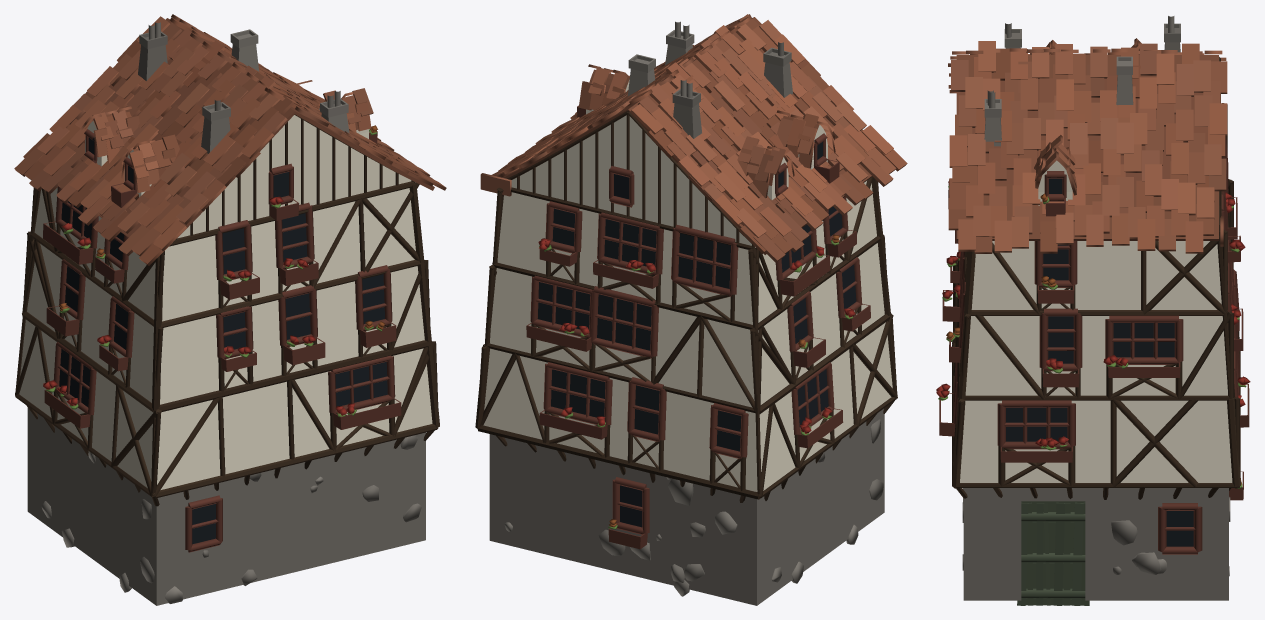
File: house_36.glb
The picture shows the model from 3 angles, left to right: view 1: azimuth 30°, elevation 25°; view 2: azimuth 150°, elevation 25°; view 3: azimuth 270°, elevation 25°; orthographic projection. The views are drawn at different scales.
Visible parts, largest first — view 1: house_36; view 2: house_36; view 3: house_36.
Part boxes in pixels (left/top/right/bottom): house_36: left=14, top=14, right=446, bottom=605; house_36: left=475, top=14, right=907, bottom=605; house_36: left=936, top=16, right=1250, bottom=605.
Bounding box in the file's own units: 6.83 × 10.47 × 5.85.
